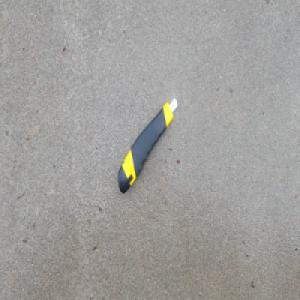Cutter: (116, 95, 180, 196)
